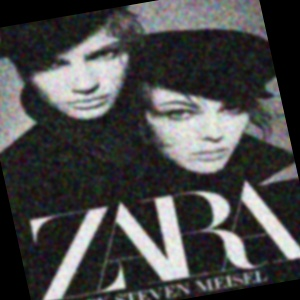zara: (269, 75, 300, 259)
